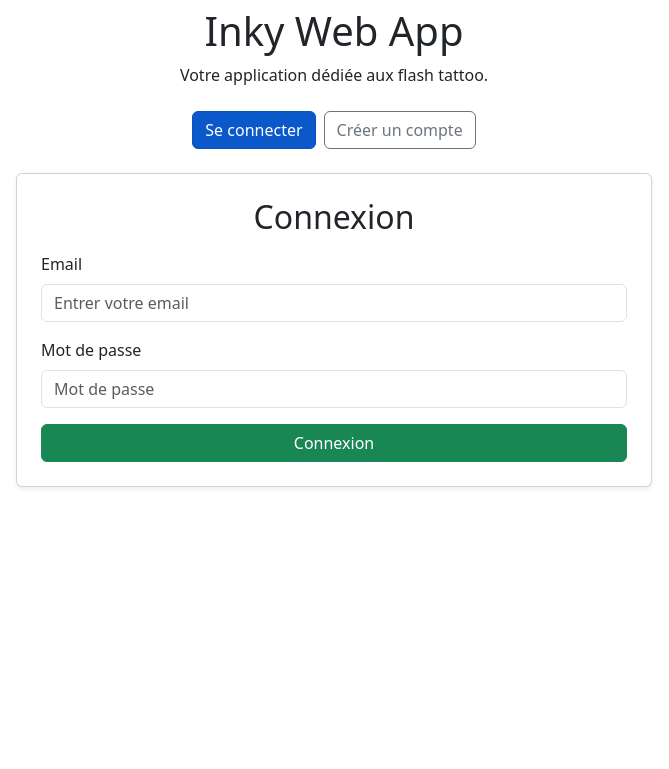
Test: passe en mode "Créer un compte" et affiche les champs supplémentaires
// Bouton de toggle (en haut)
What coordinates should you click on to do the following:
click the button "Créer un compte"
I would click on:
 (400, 130)
Its box is left=324, top=111, right=476, bottom=149.
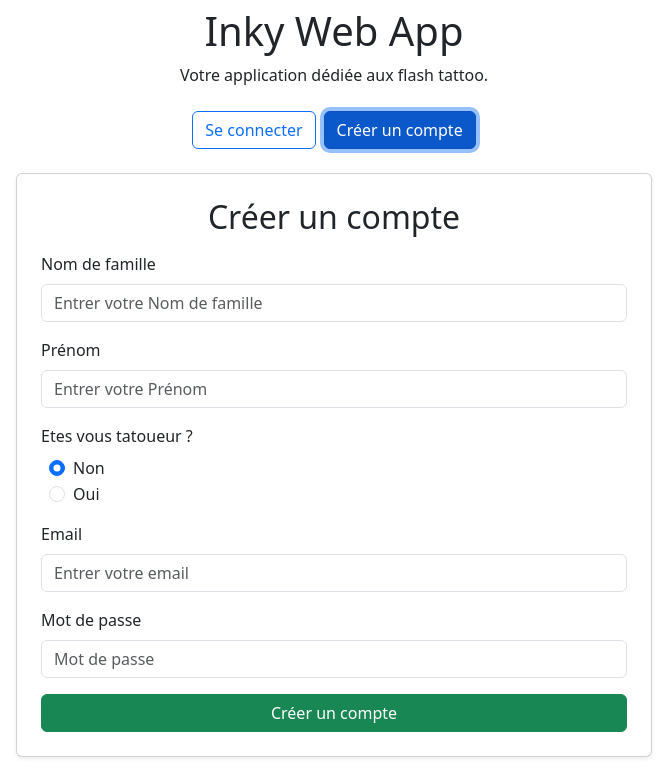
Result: the field labelled "Nom de famille" is shown at left=41, top=284, right=627, bottom=322
Result: the field labelled "Prénom" is shown at left=41, top=370, right=627, bottom=408
Result: the heading "Créer un compte" is shown at left=208, top=195, right=460, bottom=238
